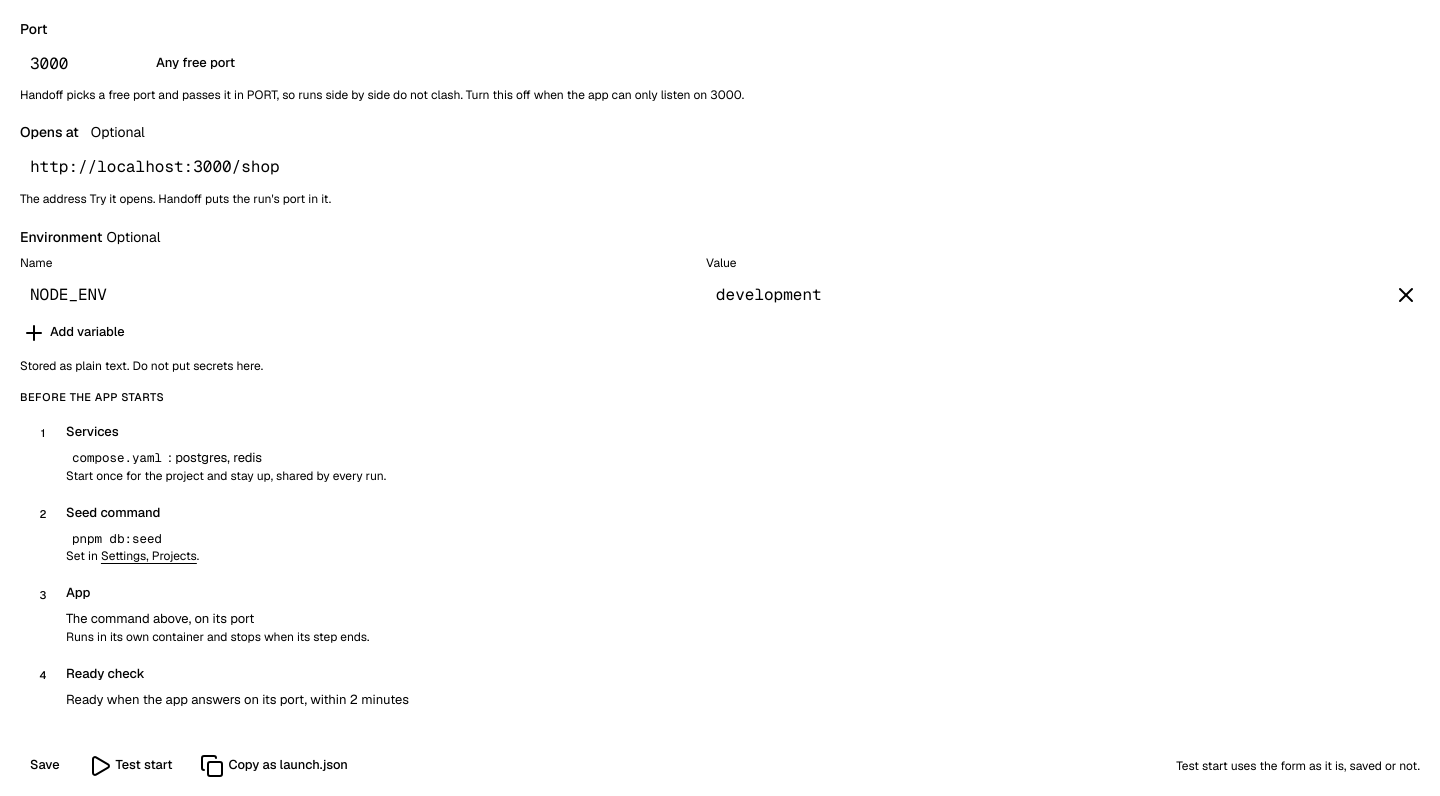
Test: in Docker workspace mode the section offers Test start and says the app runs in its own container on 127.0.0.1
(page scrolled)
Check: the list item that starts with "App" shows "Runs in its own container and stops when its step ends.", box [66,629,370,645]
Check: the list item that starts with "Ready check" shows "Ready when the app answers on its port, within 2 minutes", box [66,691,409,708]
Step 1. Click the button "Test start" → {"x": 130, "y": 766}, box [78,752,182,780]
(page scrolled)
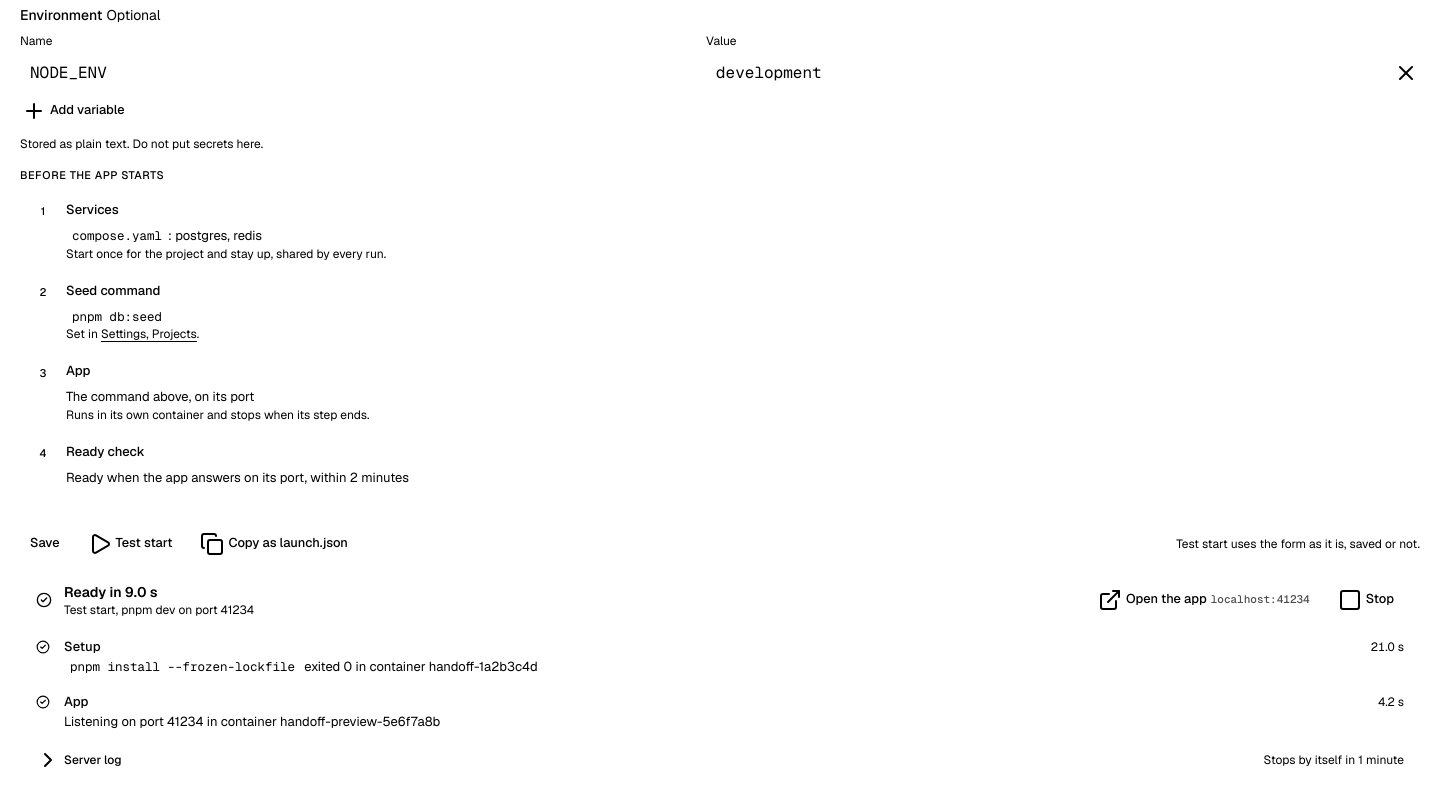
Check: the message "Test start" shows "pnpm install --frozen-lockfile exited 0 in container handoff-1a2b3c4d", box [20,570,1420,780]
Check: the message "Test start" shows "Listening on port 41234 in container handoff-preview-5e6f7a8b", box [64,713,440,730]
